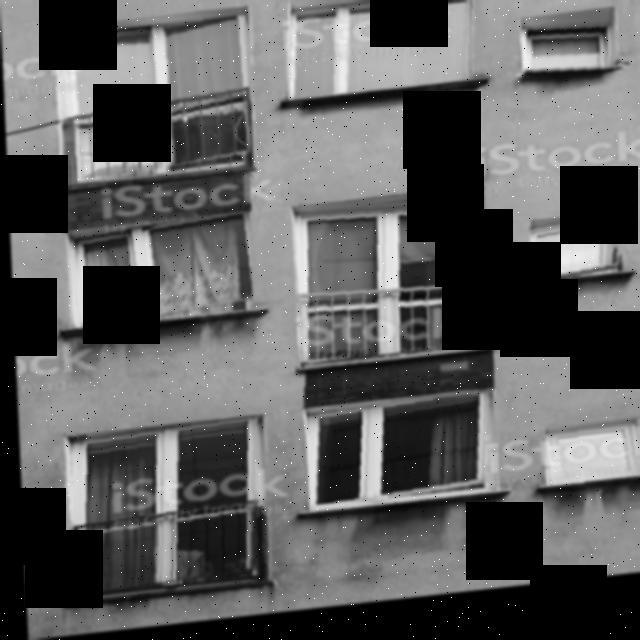Window: (65, 421, 259, 599), (294, 199, 488, 370), (58, 21, 250, 186), (284, 0, 484, 109), (66, 216, 250, 332), (305, 404, 491, 518), (538, 432, 638, 508), (526, 226, 623, 298), (524, 22, 616, 92)
